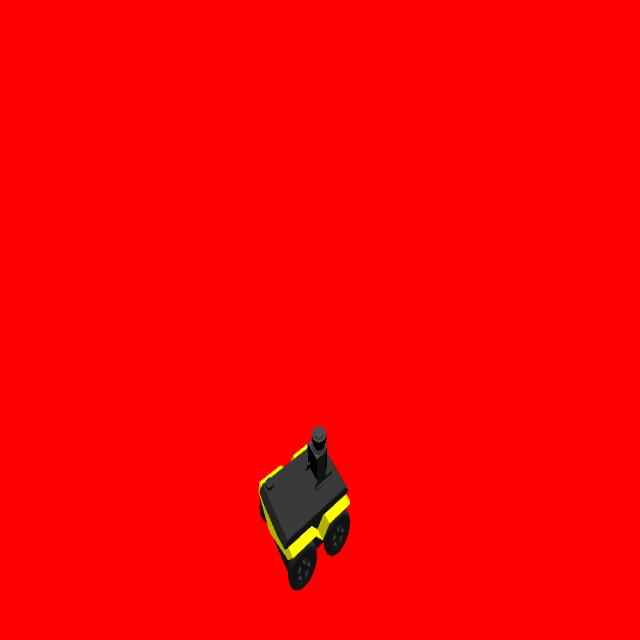jackal: (261, 424, 350, 589)
